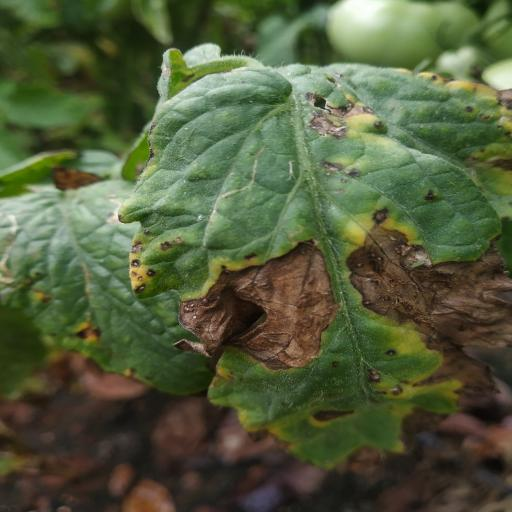Early Blight: (116, 60, 512, 482)
